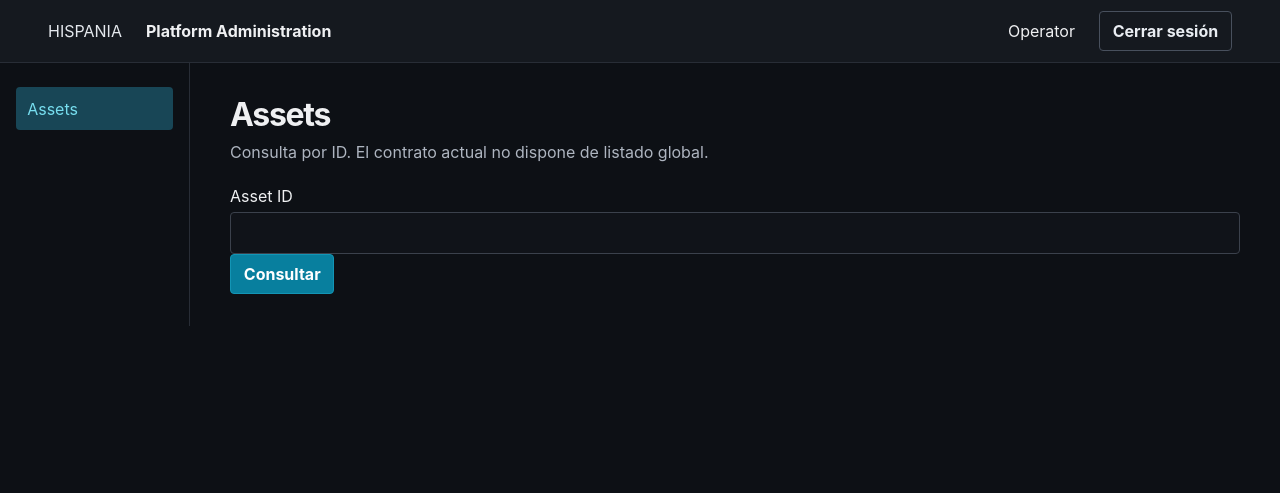
Test case: shows safe asset metadata and uses the existing audited delete API
Type "asset1" into the field labelled "Asset ID" at {"x": 735, "y": 233}, box [230,212,1240,254]
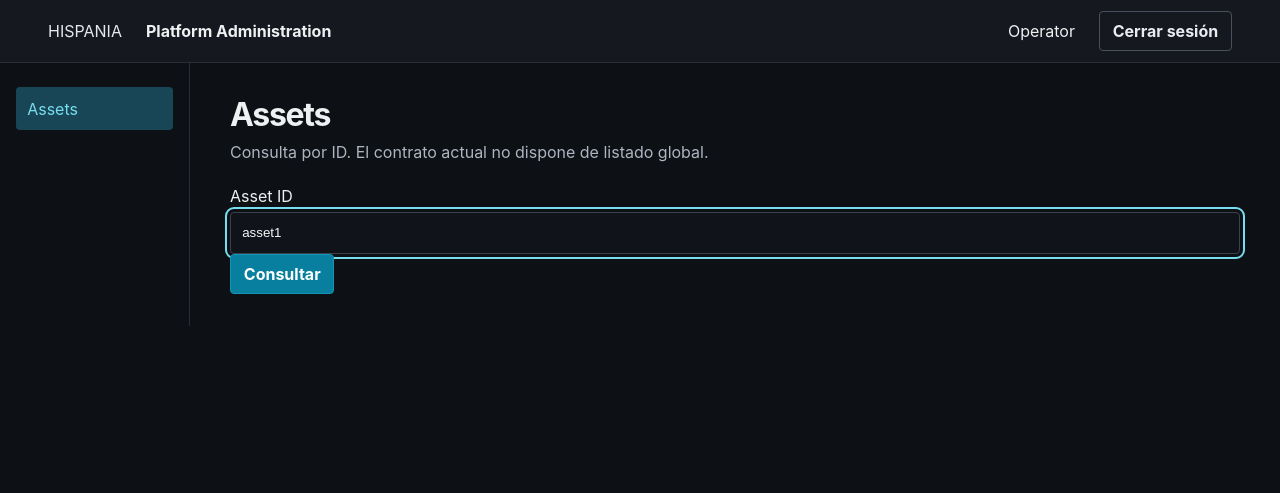
Click the button "Consultar" at {"x": 282, "y": 274}, box [230,254,334,294]
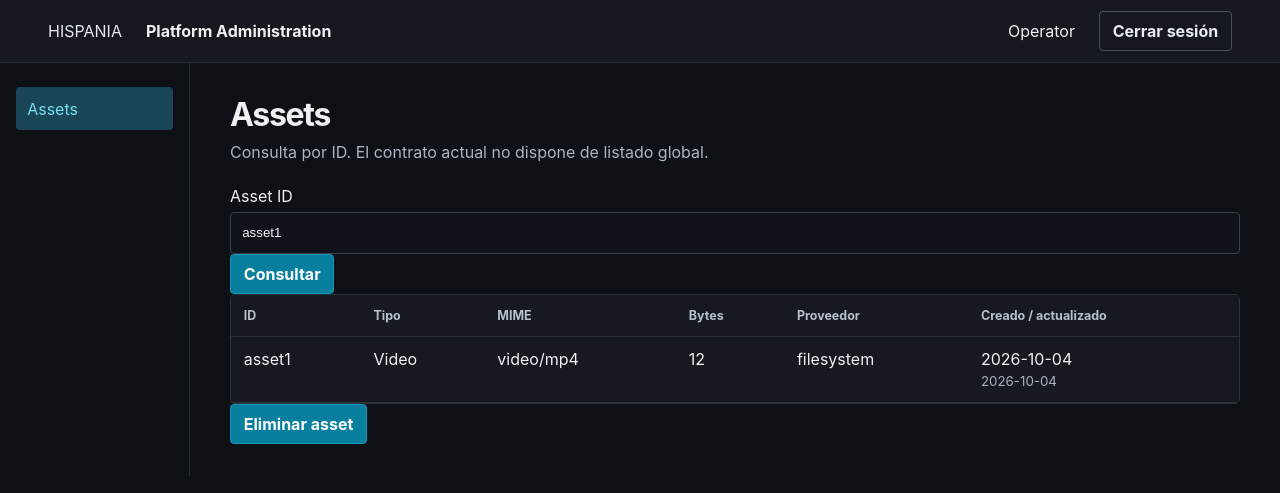
Check: the text "video/mp4" is shown, box [484,336,676,403]
Click the button "Eliminar asset" at {"x": 299, "y": 424}, box [230,404,367,444]
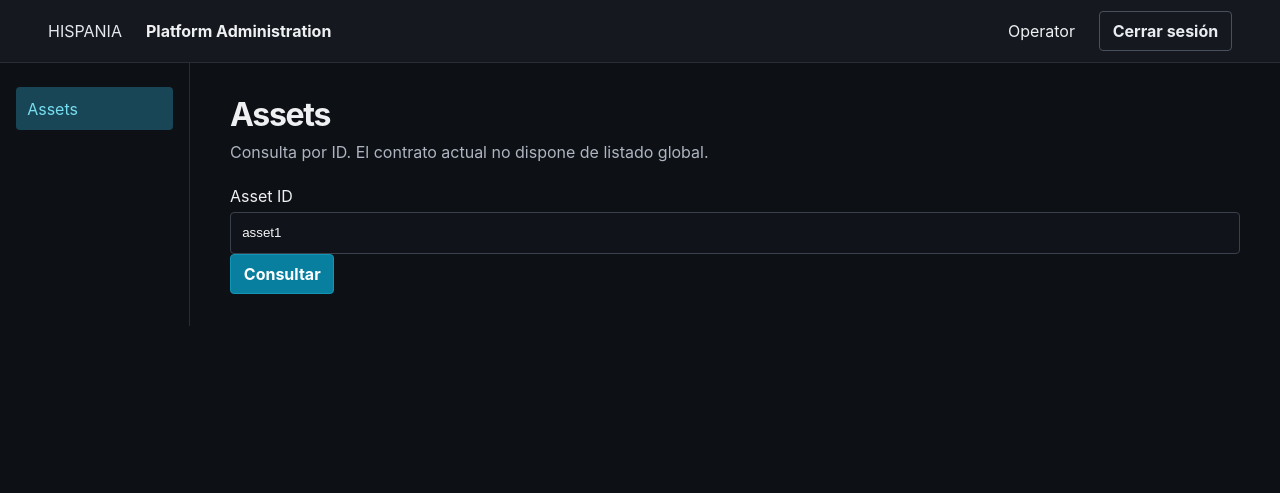
Check: the text "video/mp4" is gone
